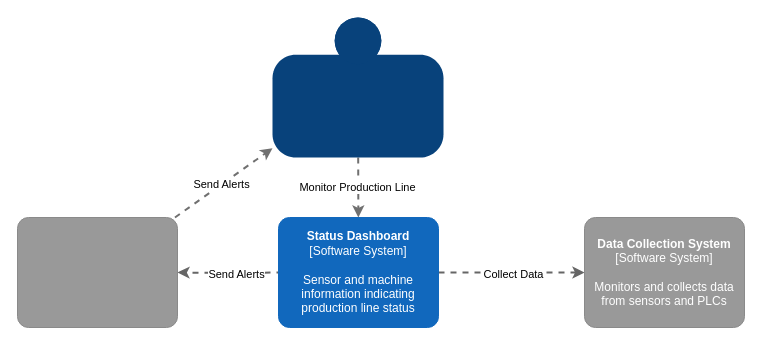
Some shapes in this 762 by 345 pixel diagram are drawn without their labels. Each missing label, with the centre of its shape:
Alert System [Software System] Sends SMS notifications of problems: (x=97, y=272)
Support Staff [Person] Monitors the production line: (x=357, y=87)
